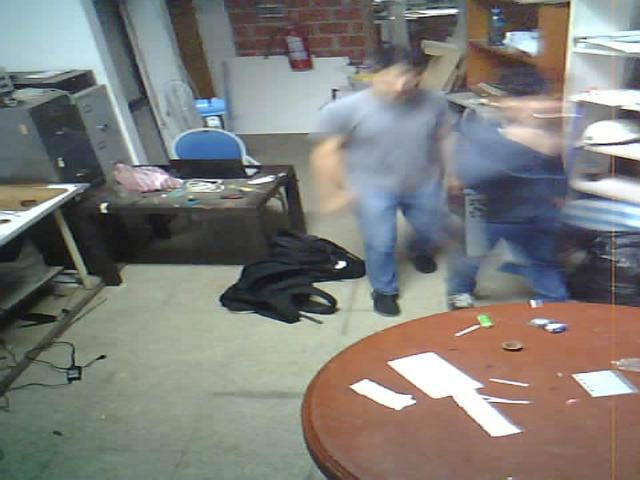person: (302, 33, 444, 326), (431, 55, 587, 319)
